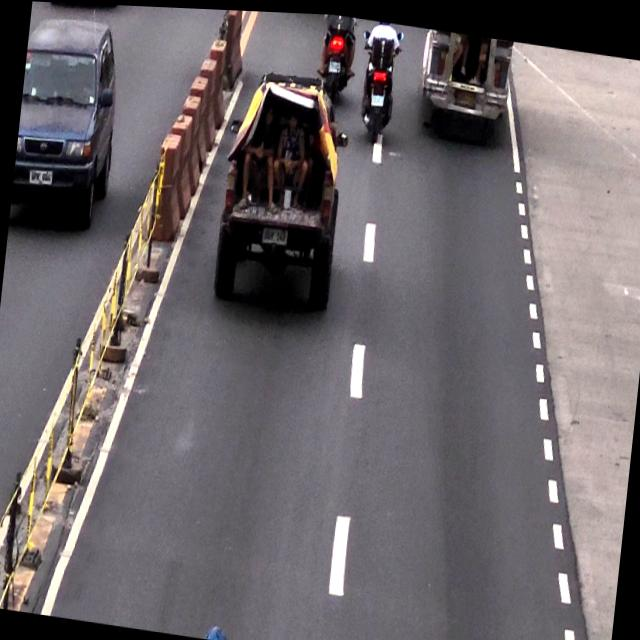Jeep: (418, 24, 511, 124)
License-Plate: (260, 220, 290, 245), (370, 89, 384, 104)
Motorcycle: (358, 16, 402, 139), (319, 11, 354, 86)
Truck: (211, 67, 348, 307)
